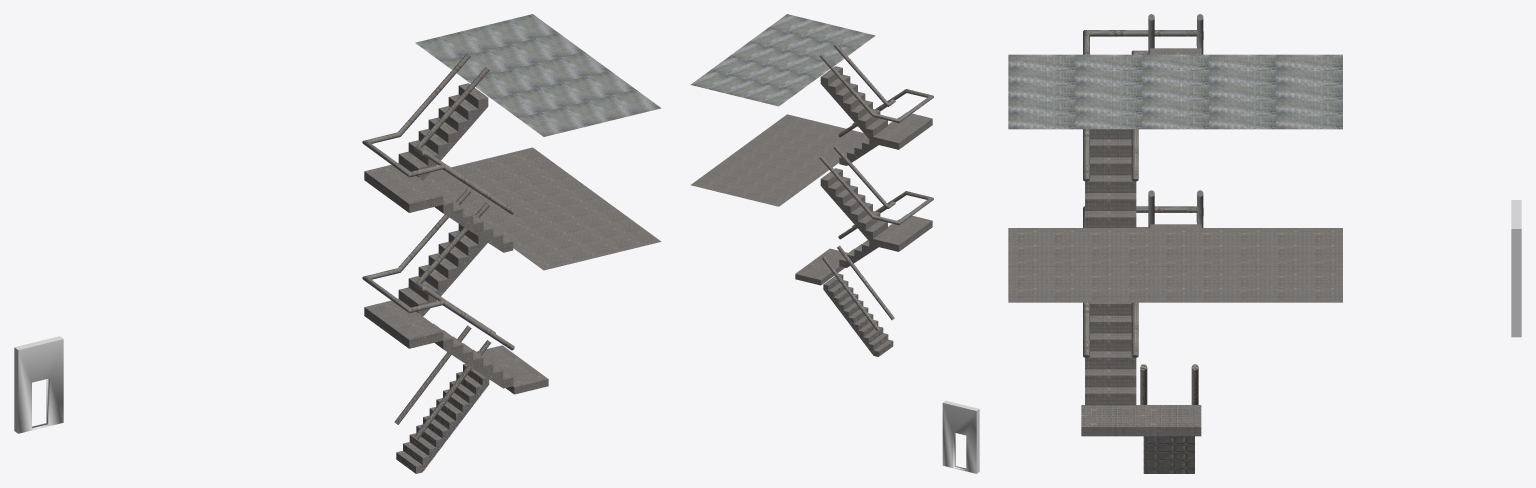
File: exp1.FBX
3 views of the same model, side by side, from view 1: azimuth 30°, elevation 25°; view 2: azimuth 150°, elevation 25°; view 3: azimuth 270°, elevation 25° (orthographic). The views are drawn at different scales.
Visible parts, largest first — view 1: Plane004, Plane005, UTypeStair003, UTypeStair004, StraightStair001, Box006, Box002; view 2: Plane004, Plane005, UTypeStair003, UTypeStair004, StraightStair001, Box006, Box002; view 3: Plane004, Plane005, UTypeStair003, UTypeStair004, Box002, StraightStair001, Box006.
Part boxes in pixels (x1,y1,x2,y2): Plane004: (415,14,660,136); Plane005: (423,147,661,270); UTypeStair003: (362,53,514,252); UTypeStair004: (362,189,514,388); StraightStair001: (394,325,490,473); Box006: (14,336,63,433); Box002: (477,345,548,394); Plane004: (690,14,875,106); Plane005: (690,114,867,206); UTypeStair003: (819,43,933,165); UTypeStair004: (819,145,933,267); StraightStair001: (822,245,894,356); Box006: (942,400,979,473); Box002: (795,248,847,285); Plane004: (1008,54,1342,129); Plane005: (1008,228,1342,302); UTypeStair003: (1083,14,1203,227); UTypeStair004: (1083,190,1203,405); Box002: (1081,405,1201,436); StraightStair001: (1140,364,1198,473); Box006: (1511,200,1521,337).
Size of the model in its own units: 19.69 by 16.22 by 14.99.
Materials: 3 (2 with a texture image).
